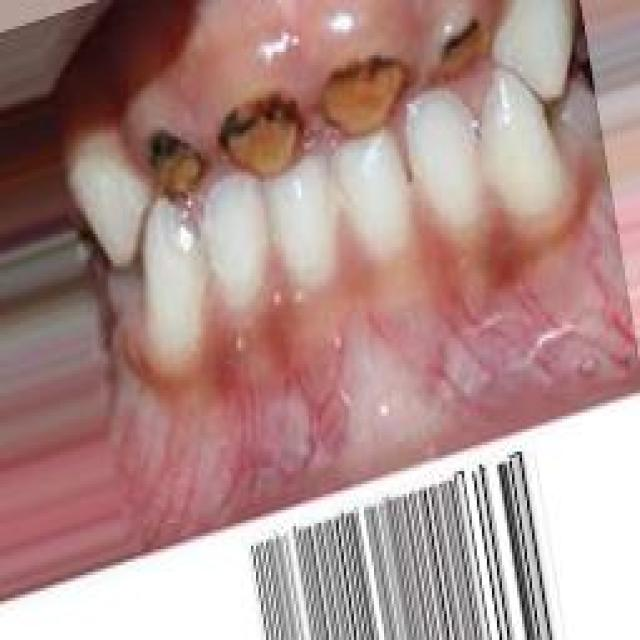caries: (208, 88, 308, 189), (313, 41, 406, 140), (413, 7, 497, 85), (134, 118, 210, 194)
